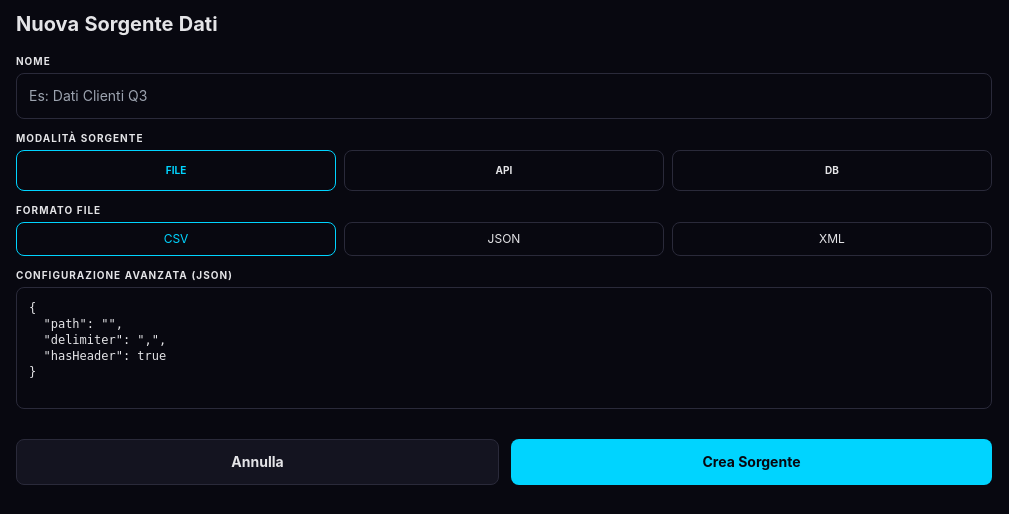
Test: DataSourceForm › returns to file mode and shows format selector
The width and height of the screenshot is (1009, 514).
Step 1. Click the button "API" → (504, 170), box [344,150,664,191]
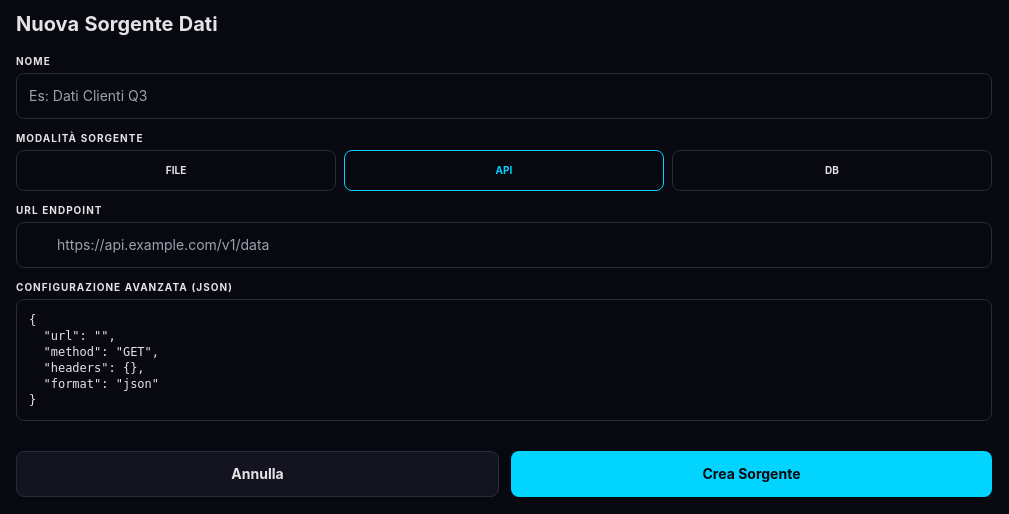
Step 2. Click the button "File" → (176, 170), box [16,150,336,191]
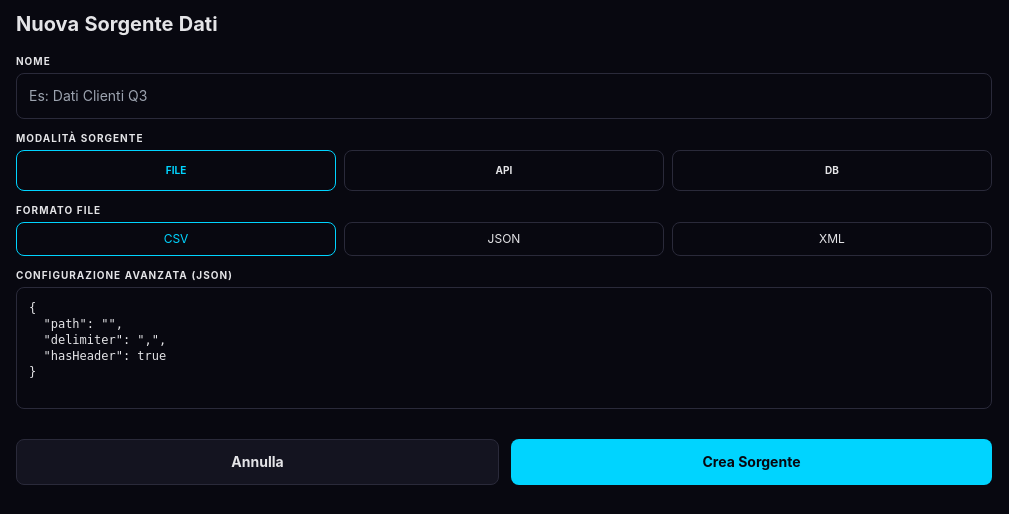
Expected: the text "Formato File" is shown, [16,204,101,216]
